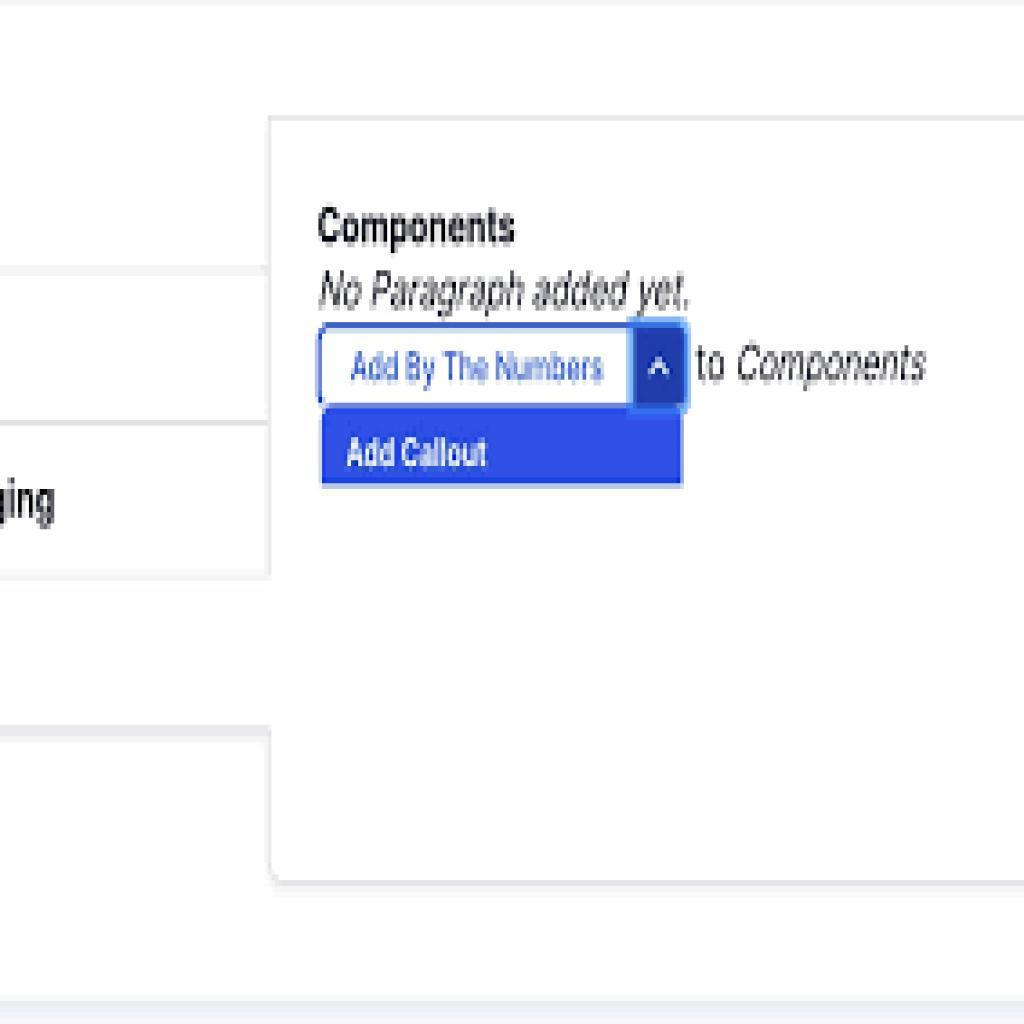dropdown: (321, 327, 692, 405)
